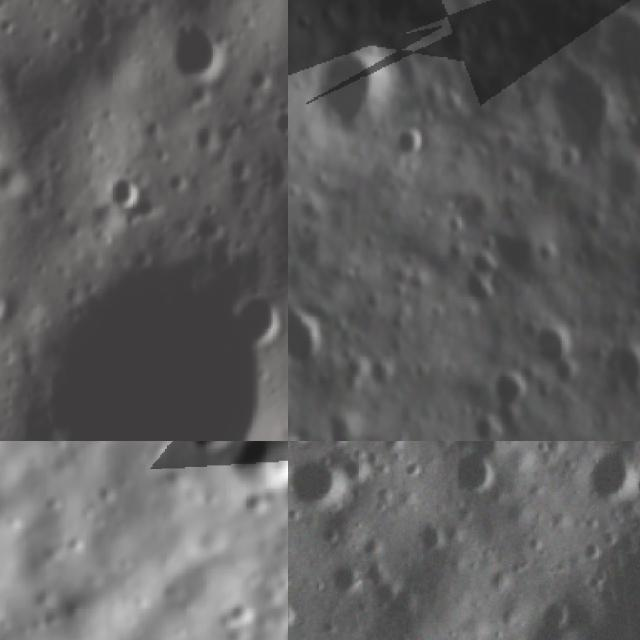crater: (23, 225, 287, 441), (316, 38, 418, 144), (540, 56, 624, 155), (157, 16, 231, 90), (459, 233, 515, 318), (288, 449, 354, 518), (444, 442, 514, 506), (582, 441, 640, 506), (288, 298, 336, 371), (231, 441, 288, 494), (526, 320, 586, 370), (597, 140, 640, 209), (232, 290, 286, 344), (104, 166, 152, 220), (599, 330, 640, 393), (526, 592, 579, 640), (489, 363, 537, 410), (335, 444, 382, 492), (0, 150, 37, 207), (325, 554, 372, 598), (217, 149, 263, 191), (409, 518, 451, 558), (329, 407, 376, 441), (400, 122, 434, 169), (220, 597, 256, 635), (263, 103, 288, 146), (182, 441, 242, 456), (288, 590, 305, 636), (0, 278, 14, 326)
